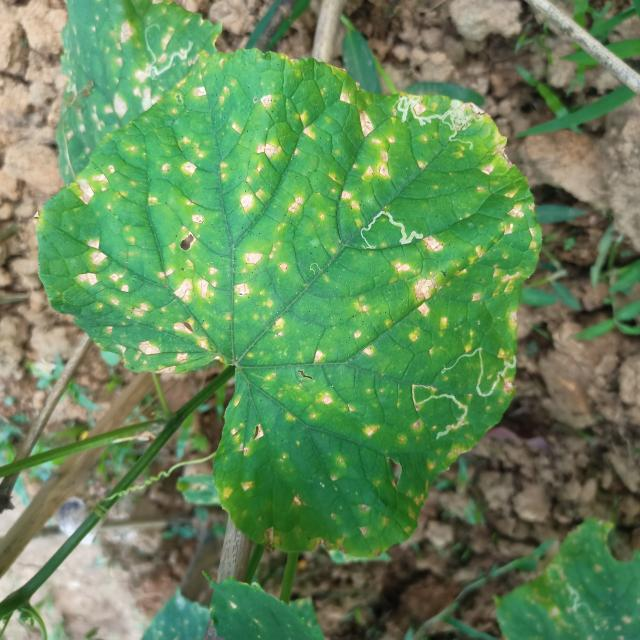disease_cucumber: (62, 73, 524, 526), (46, 14, 196, 158)
